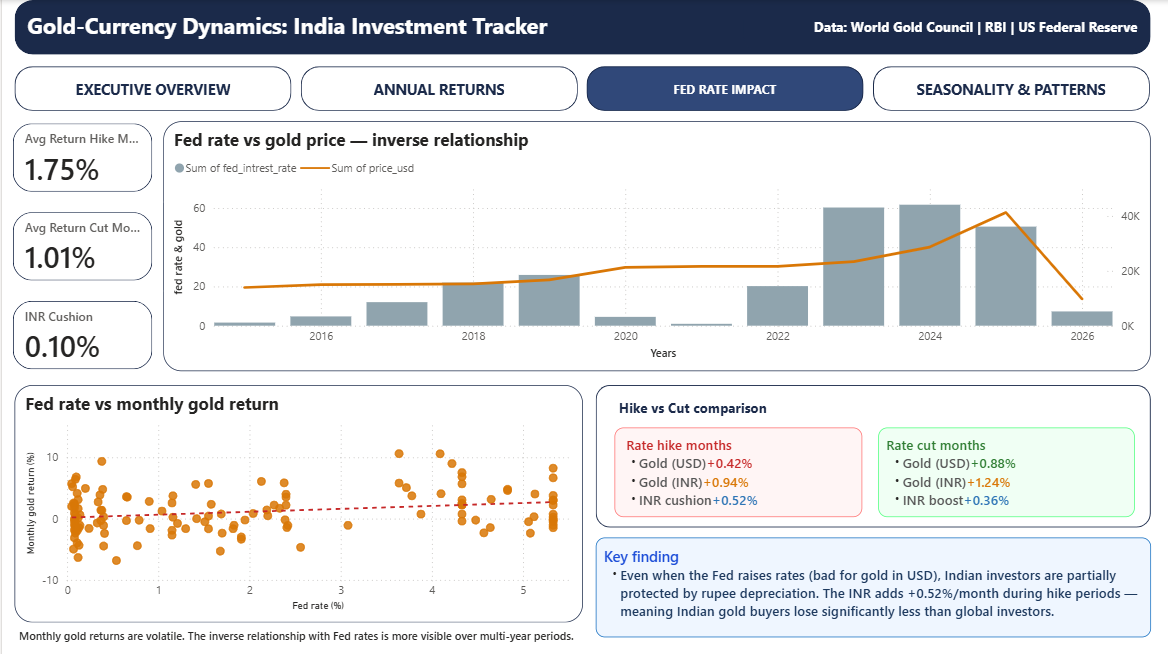

Layout of this report page (visuals, bound fields, positions):
{"tool":"powerbi","page":{"name":"FED RATE IMPACT","canvas":[1280,720],"ordinal":2},"visuals":[{"type":"pageNavigator","box":[13.7,72.7,1247.3,49.4],"z":0},{"type":"shape","box":[13.7,0,1247.3,60],"z":1000},{"type":"textbox","title":"Gold-Currency Dynamics: India Investment Tracker","box":[22,0,606.5,59],"z":2000},{"type":"textbox","title":" Data: World Gold Council | RBI | US Federal Reserve","box":[813.7,2.7,439.1,54.9],"z":3000},{"type":"lineClusteredColumnComboChart","title":"Fed rate vs gold price — inverse relationship","fields":{"Category":["gold_investment_master.date.Variation.Date Hierarchy.Year","gold_investment_master.date.Variation.Date Hierarchy.Quarter","gold_investment_master.date.Variation.Date Hierarchy.Month","gold_investment_master.date.Variation.Date Hierarchy.Day"],"Y":["Sum(gold_investment_master.fed_intrest_rate)"],"Y2":["Sum(gold_investment_master.price_usd)"]},"box":[177,133.1,1084.1,274.4],"z":4000},{"type":"scatterChart","title":"Fed rate vs monthly gold return","fields":{"X":["gold_investment_master.fed_intrest_rate"],"Y":["gold_investment_master.gold_return_1d"]},"box":[13.7,422.6,624.4,260.7],"z":5000},{"type":"textbox","box":[13.7,683.4,625.7,32.9],"z":6000},{"type":"cardVisual","fields":{"Data":["gold_investment_master.Avg Return Hike Months"]},"box":[0,123.5,177,99],"z":7000},{"type":"cardVisual","fields":{"Data":["gold_investment_master.Avg Return Cut Months"]},"box":[0,220.9,177,99],"z":8000},{"type":"cardVisual","fields":{"Data":["gold_investment_master.INR Cushion"]},"box":[0,318.4,177,99],"z":9000},{"type":"shape","box":[651.8,422.6,609.3,156.4],"z":10000},{"type":"textbox","box":[672.4,469.3,271.7,98],"z":11000},{"type":"textbox","box":[961.9,469.3,281.3,98],"z":12000},{"type":"textbox","box":[672.4,432.2,182.5,30],"z":13000},{"type":"textbox","box":[651.8,590.1,609.3,109.8],"z":14000}]}

Visuals, with their boxes in screenshot pixels (x1, y1, x2, y2), scaled from the page's 1280x720 canvas onto the 1168x654 screenshot:
pageNavigator: box=[13, 66, 1151, 111]
shape: box=[13, 0, 1151, 54]
"Gold-Currency Dynamics: India Investment Tracker" textbox: box=[20, 0, 574, 54]
" Data: World Gold Council | RBI | US Federal Reserve" textbox: box=[743, 2, 1143, 52]
"Fed rate vs gold price — inverse relationship" lineClusteredColumnComboChart: box=[162, 121, 1151, 370]
"Fed rate vs monthly gold return" scatterChart: box=[13, 384, 582, 621]
textbox: box=[13, 621, 583, 651]
cardVisual - gold_investment_master.Avg Return Hike Months: box=[0, 112, 162, 202]
cardVisual - gold_investment_master.Avg Return Cut Months: box=[0, 201, 162, 291]
cardVisual - gold_investment_master.INR Cushion: box=[0, 289, 162, 379]
shape: box=[595, 384, 1151, 526]
textbox: box=[614, 426, 861, 515]
textbox: box=[878, 426, 1134, 515]
textbox: box=[614, 393, 780, 420]
textbox: box=[595, 536, 1151, 636]
